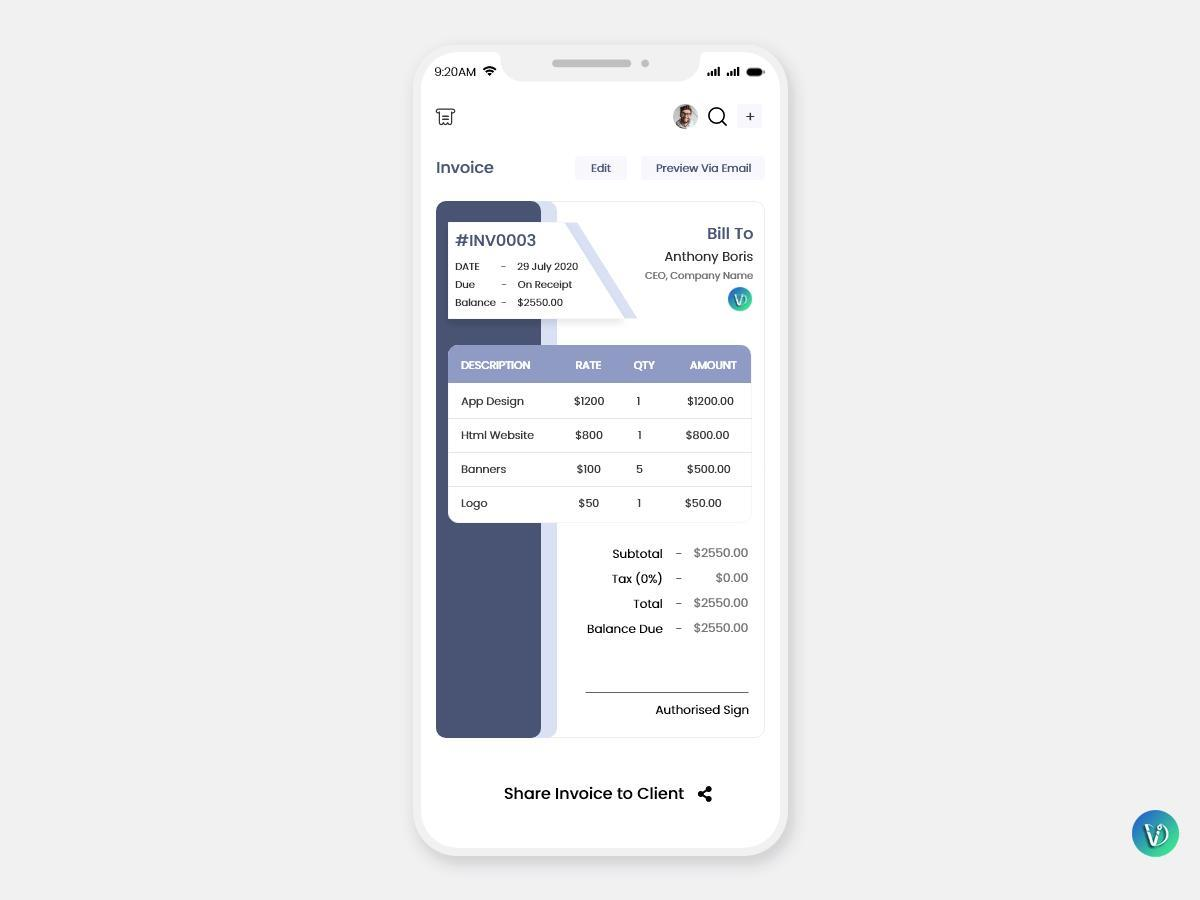button: (642, 156, 766, 181), (575, 157, 632, 182), (738, 105, 766, 127)
icon: (707, 105, 732, 130), (433, 105, 461, 127), (696, 782, 717, 807)
label: (500, 785, 688, 805)
